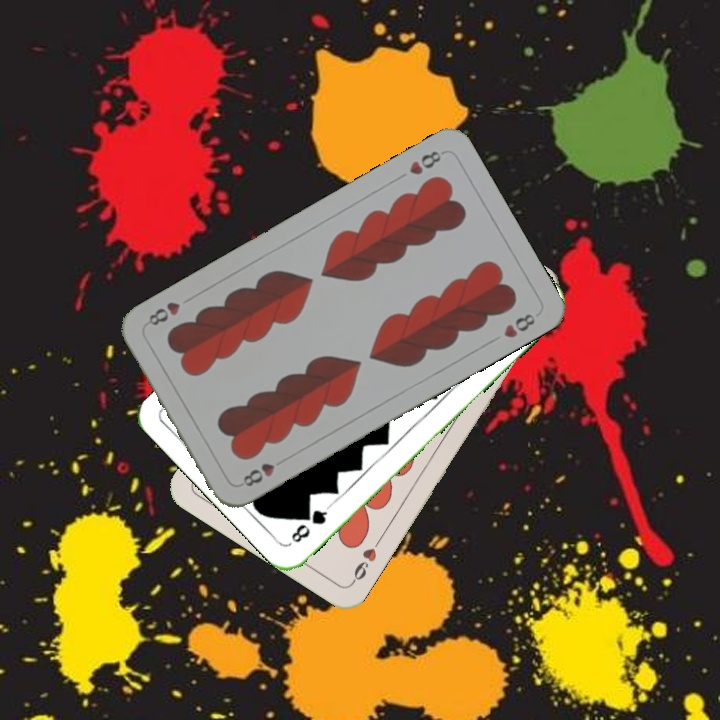G8: (287, 501, 333, 546)
H8: (405, 146, 448, 178), (239, 458, 278, 490)
H9: (347, 534, 384, 587)
